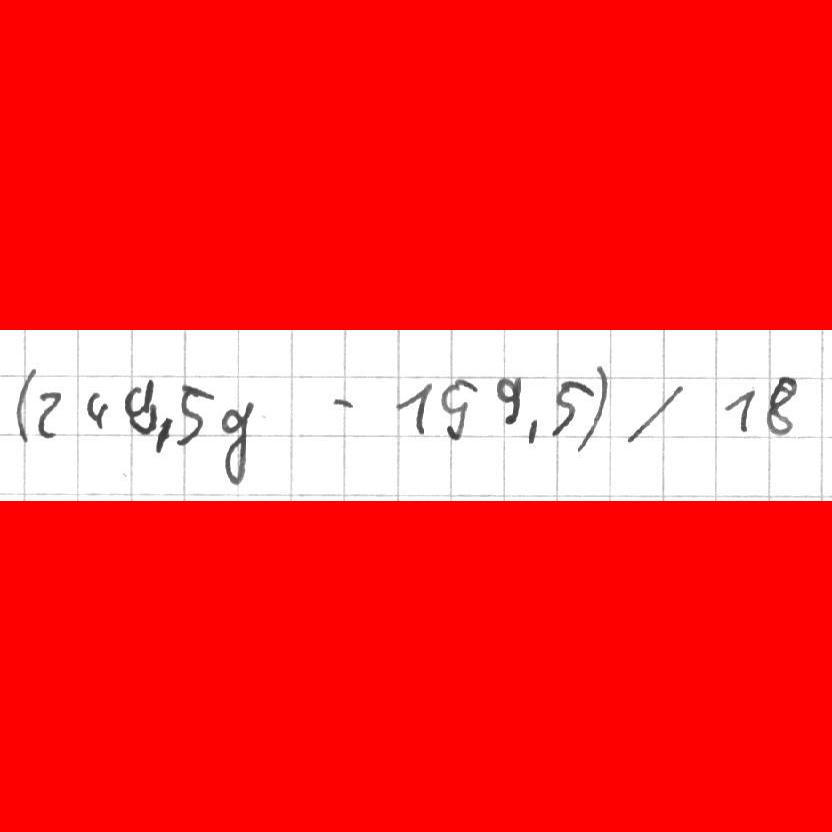Char: (623, 380, 690, 448), (216, 394, 258, 486), (577, 362, 613, 453), (545, 373, 594, 438), (438, 374, 480, 443), (175, 382, 216, 449), (390, 380, 434, 439), (720, 381, 765, 438), (766, 372, 802, 436), (123, 376, 160, 435), (492, 368, 524, 431), (13, 364, 37, 445), (35, 387, 67, 440), (86, 390, 109, 433), (153, 414, 174, 456), (523, 411, 543, 449), (328, 390, 358, 415)
